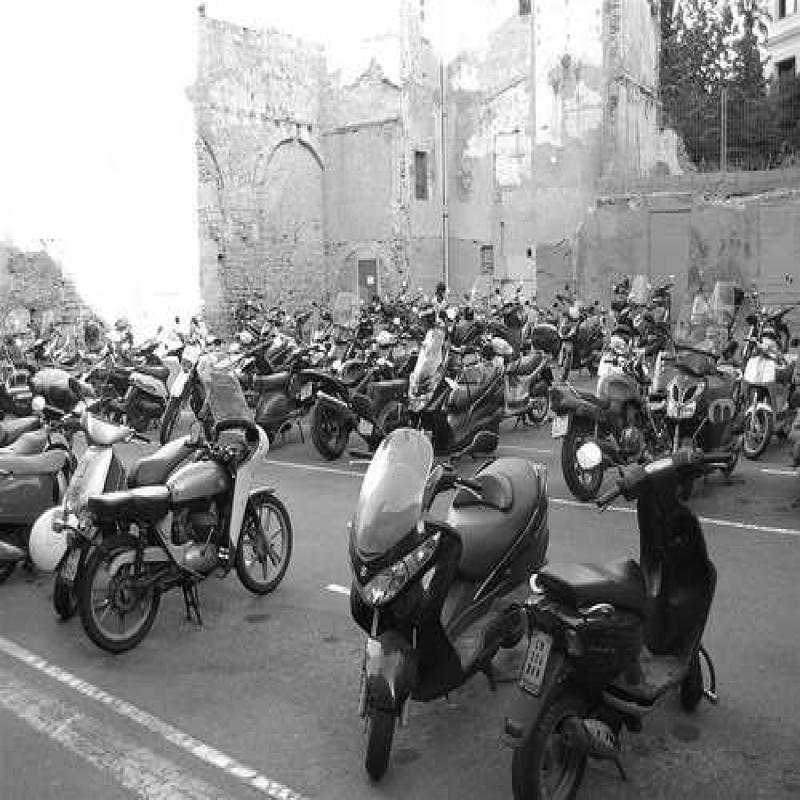bike: (522, 453, 760, 790), (348, 411, 538, 776), (46, 395, 309, 639), (59, 372, 187, 515)
